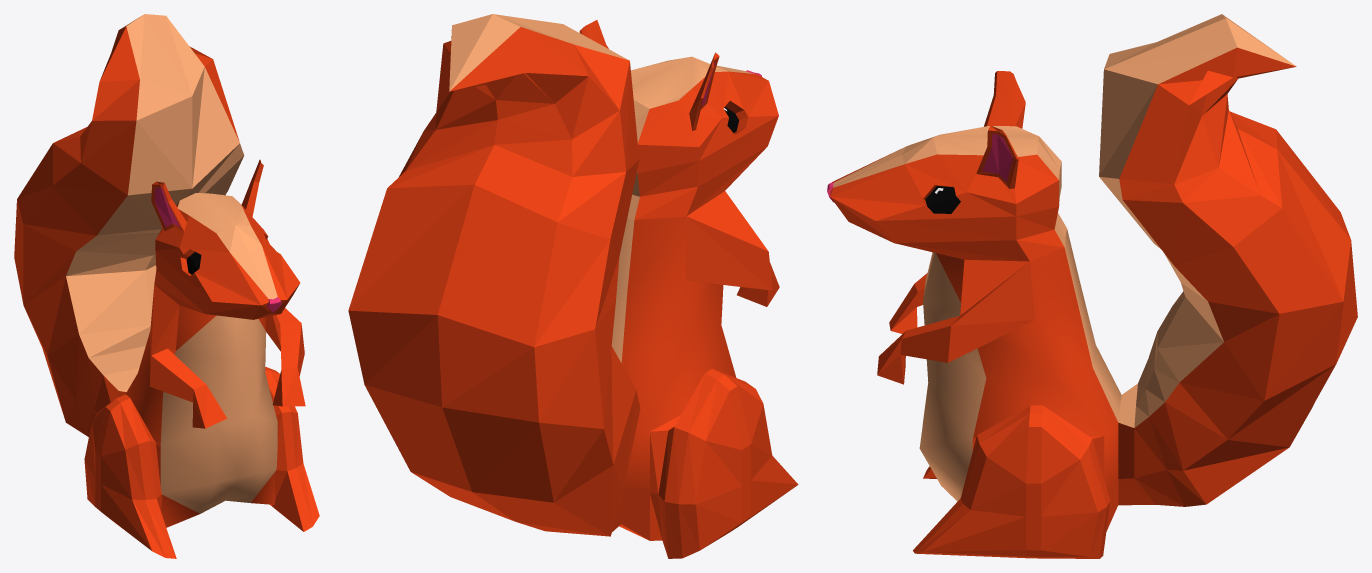
The model's file is Ecureuil.FBX.
3 views of the same model, side by side, from view 1: azimuth 30°, elevation 25°; view 2: azimuth 150°, elevation 25°; view 3: azimuth 270°, elevation 25° (orthographic). The views are drawn at different scales.
Visible parts, largest first — view 1: Cylinder001; view 2: Cylinder001; view 3: Cylinder001.
Boxes of the visible parts, x1,y1,x2,y2 form: Cylinder001: [14, 14, 319, 558]; Cylinder001: [348, 14, 798, 558]; Cylinder001: [827, 14, 1357, 558].
Size of the model in its own units: 12.8 by 26.27 by 24.46.
